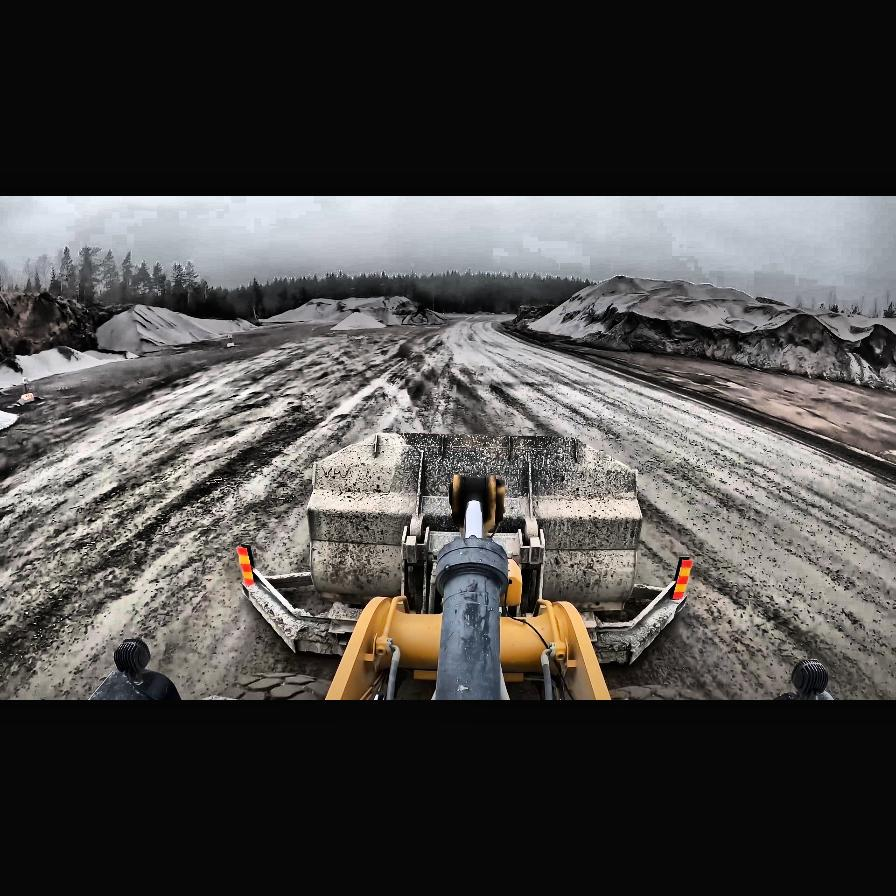anchor: (450, 473, 504, 535)
pile of gravel: (526, 274, 892, 388), (2, 296, 264, 394), (268, 297, 438, 327), (0, 356, 28, 390), (0, 408, 20, 432)
